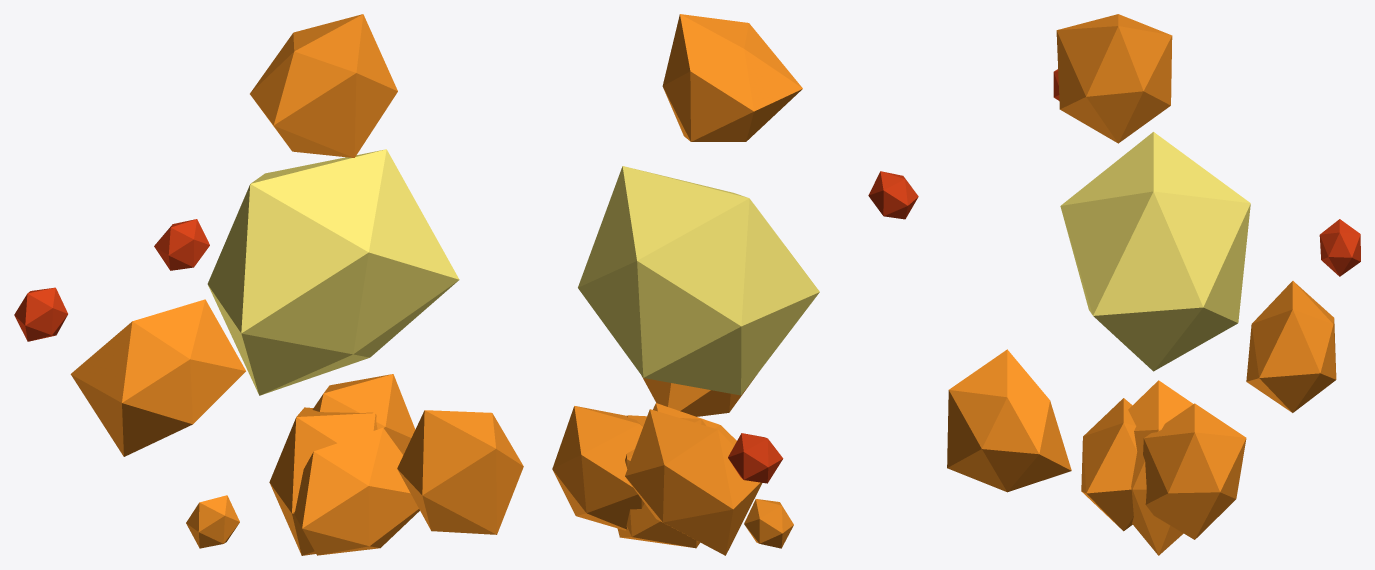
The model's file is frame_8.glb.
3 views of the same model, side by side, from view 1: azimuth 30°, elevation 25°; view 2: azimuth 150°, elevation 25°; view 3: azimuth 270°, elevation 25° (orthographic). The views are drawn at different scales.
Visible parts, largest first — view 1: effect_explosion_large_frame_8; view 2: effect_explosion_large_frame_8; view 3: effect_explosion_large_frame_8.
Boxes of the visible parts, x1,y1,x2,y2 form: effect_explosion_large_frame_8: [14, 14, 523, 555]; effect_explosion_large_frame_8: [552, 14, 918, 555]; effect_explosion_large_frame_8: [947, 14, 1360, 555].
Bounding box in the file's own units: 10.7 × 17.51 × 12.86.
